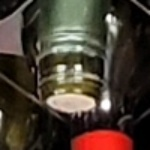bottle: (19, 51, 121, 131)
